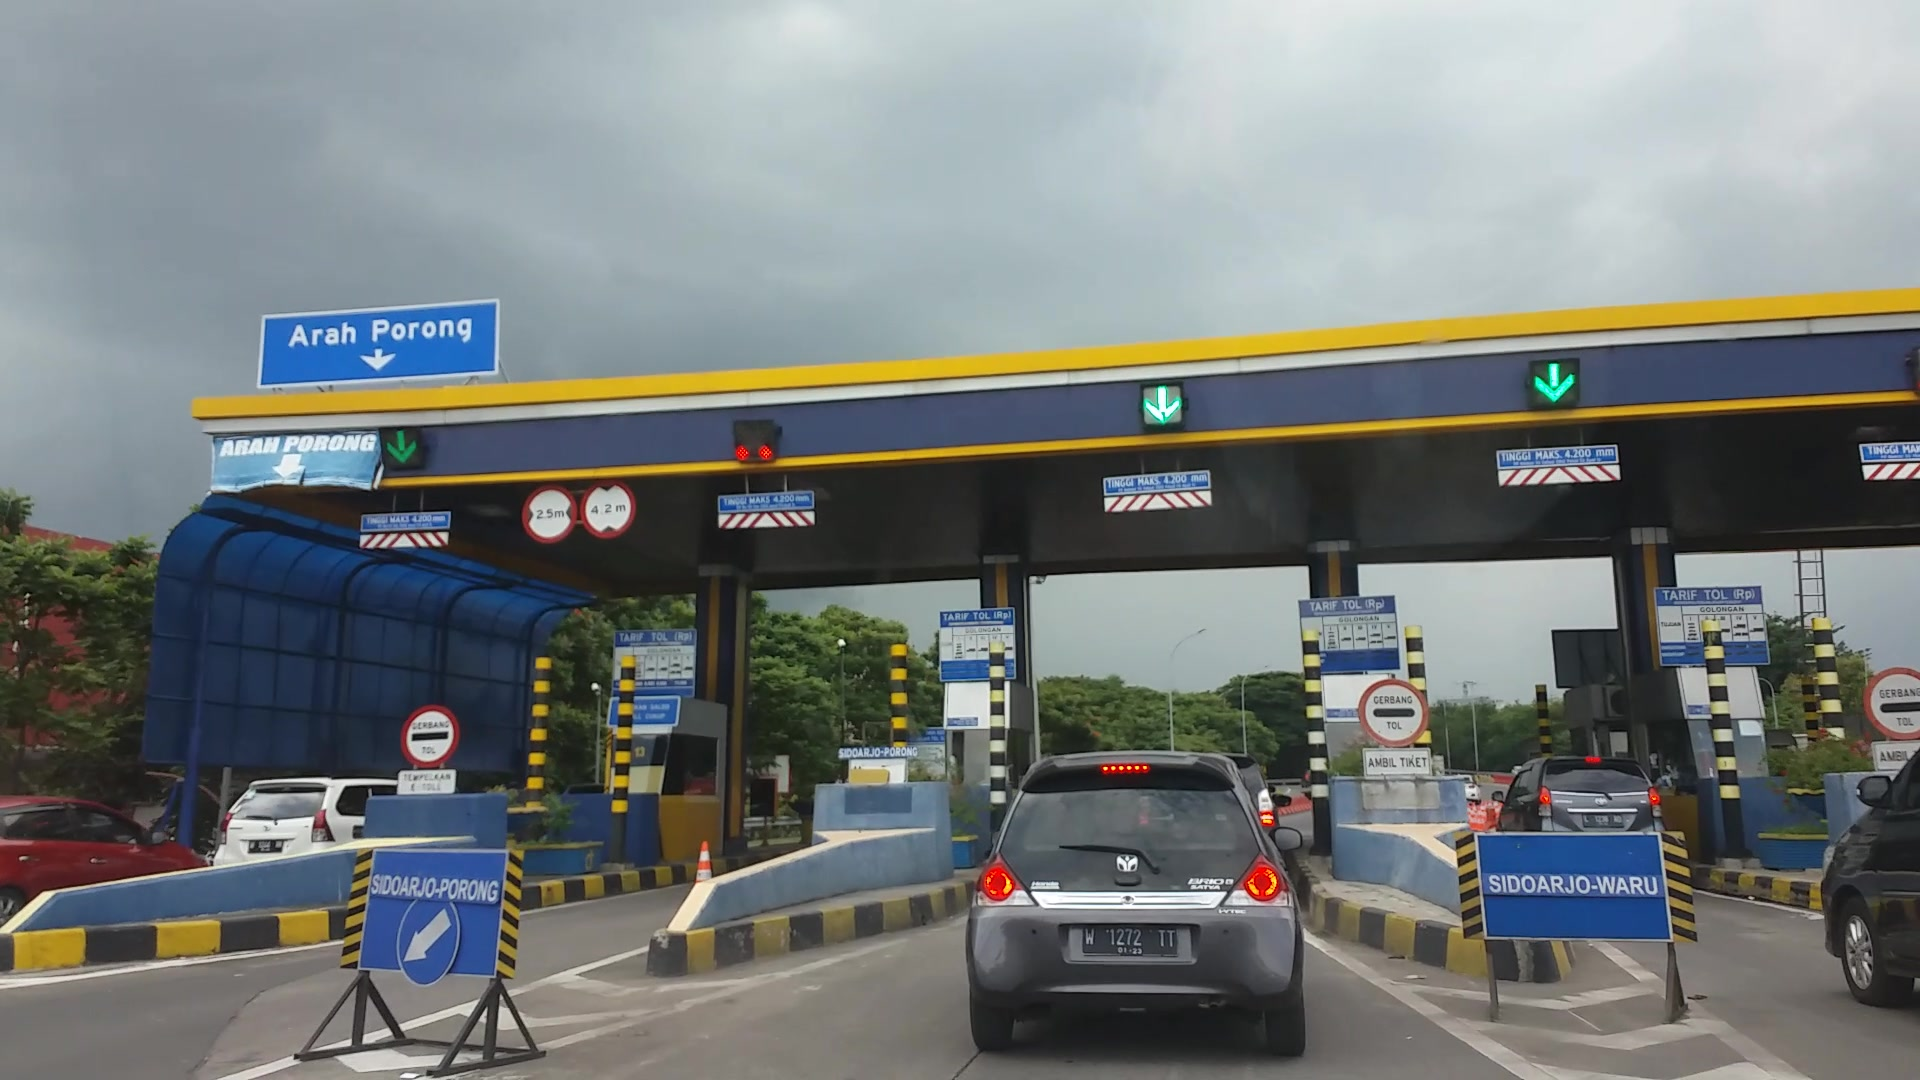plate_positive: (1081, 926, 1178, 957)
